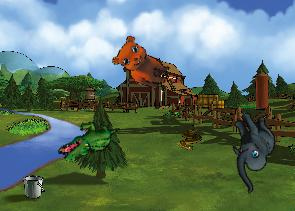bear: (108, 32, 177, 92)
crocodile: (55, 107, 121, 175)
elephant: (209, 105, 294, 194)
